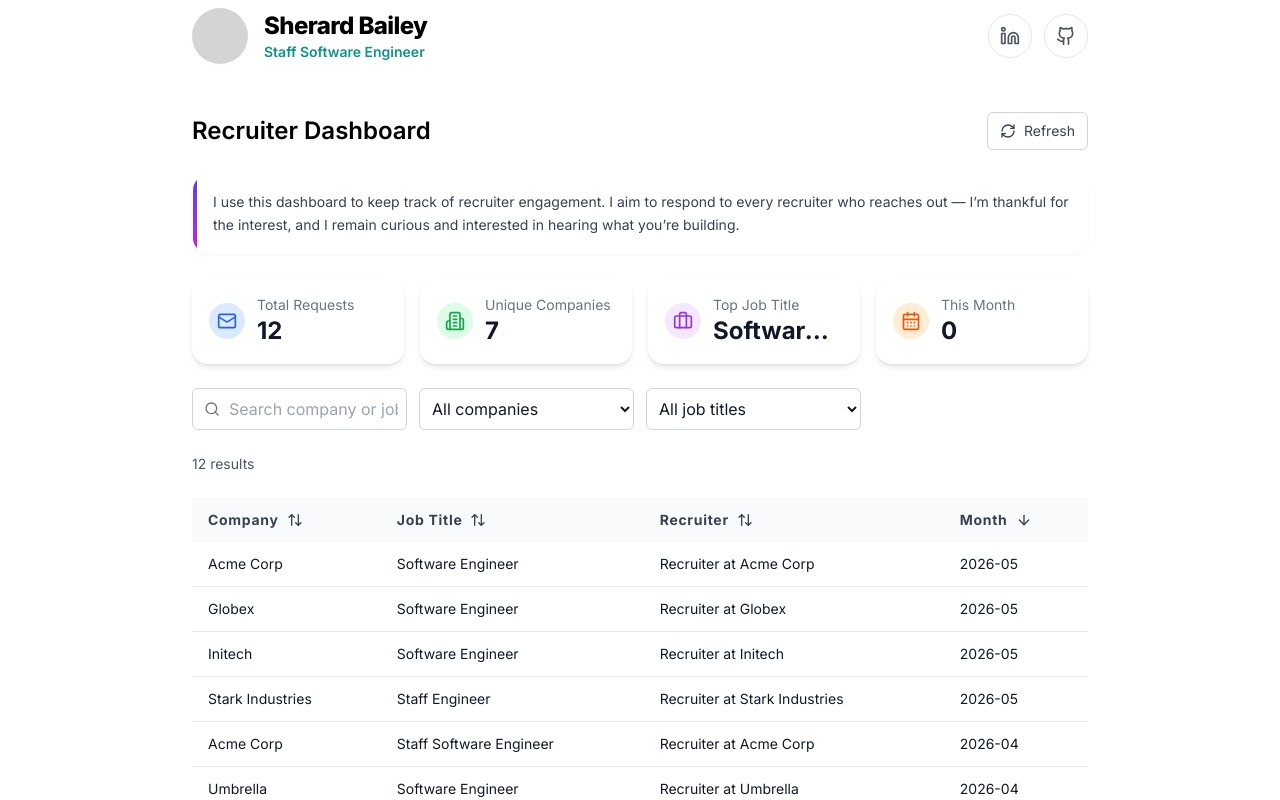
Test: DashboardPage (integration) › filters by company when the dropdown changes
Select "Initech" in the dropdown named "Filter by company" at (526, 408), box [419,388,634,430]
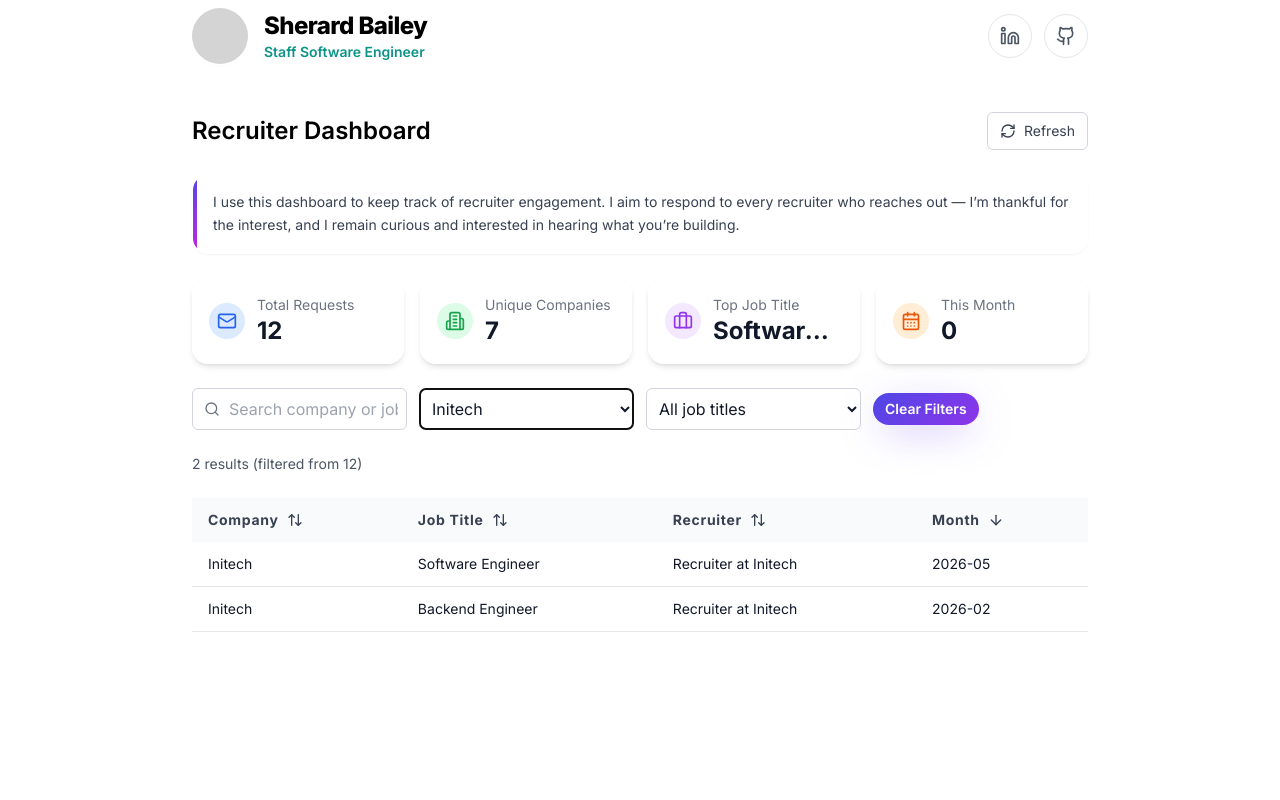
Result: the text "Globex" is gone
